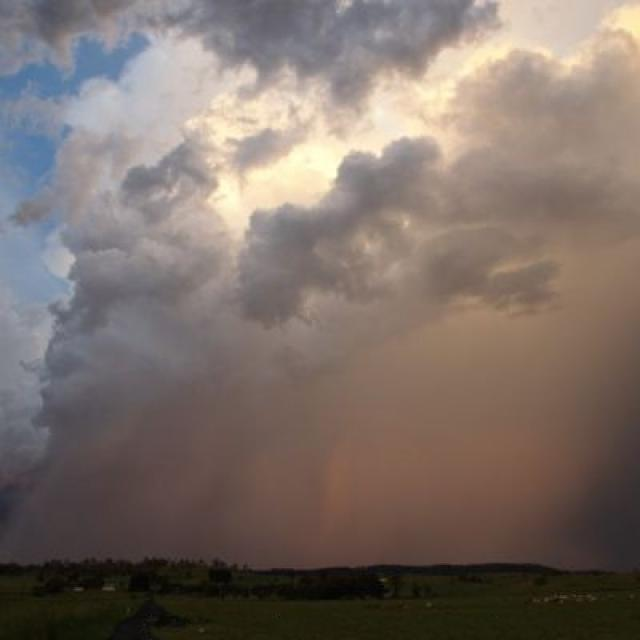cumulonimbus: (0, 2, 640, 566)
